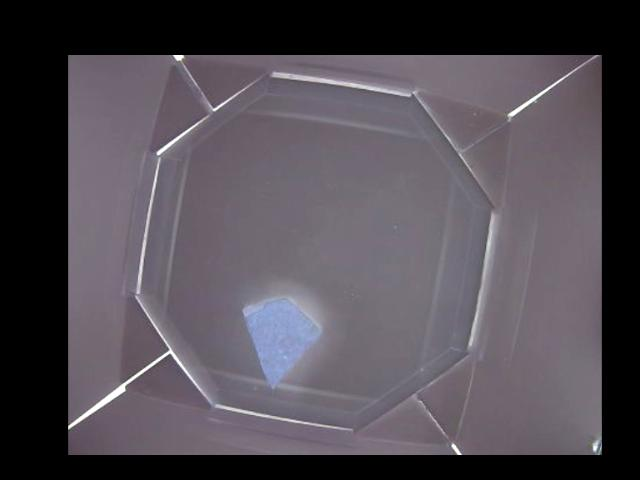China: (242, 295, 321, 392)
